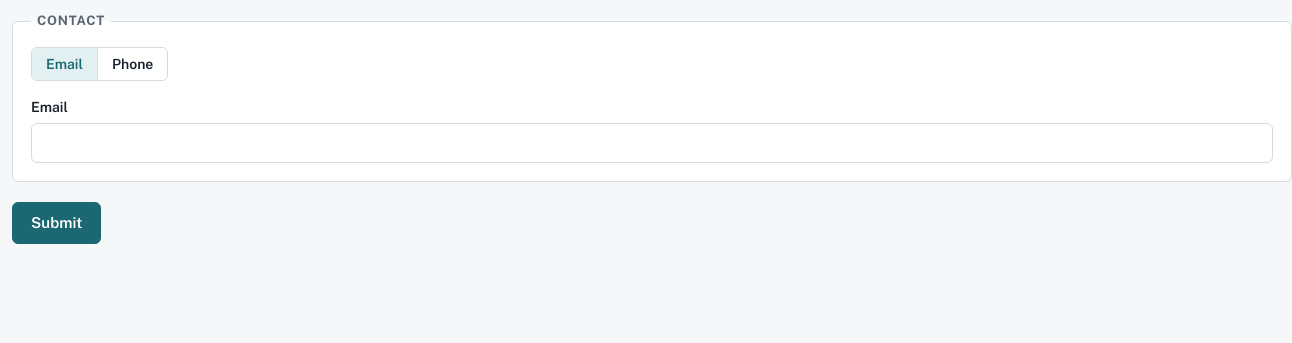
branches, defaults and arrays › switches oneOf branches without a discriminator from their defaults
Later steps or results of the test are not shown.
In the field labelled "Email": (652, 143) top-left (31, 123), bottom-right (1273, 163), type "a@b.c"
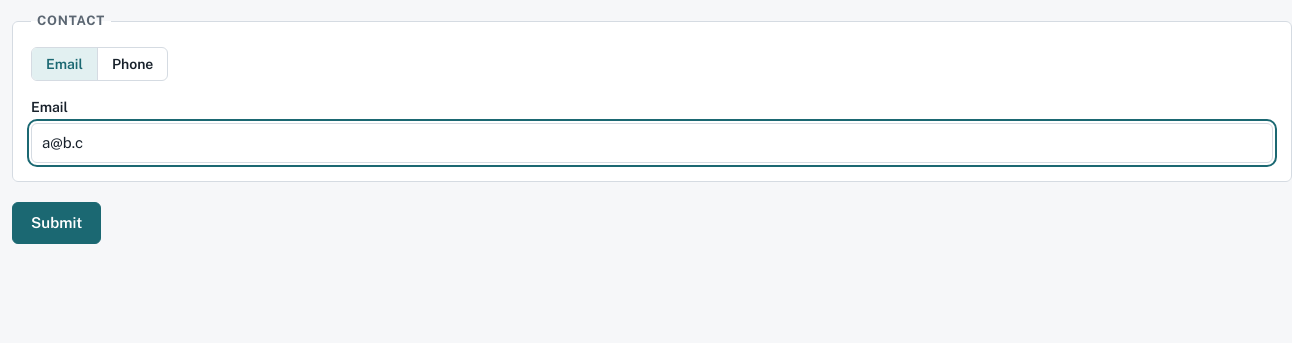
Click the radio button labelled "Phone": (132, 64) top-left (97, 48), bottom-right (167, 80)
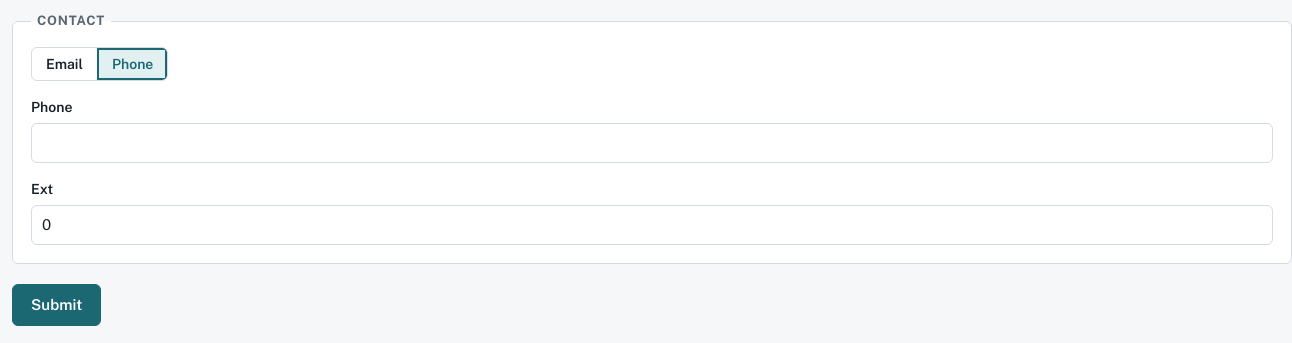
Now the field labelled "Phone" is shown, box top-left (31, 123), bottom-right (1273, 163)
